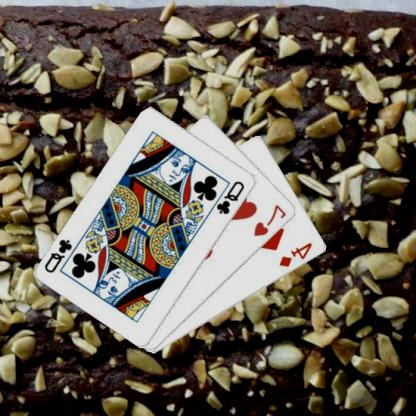4D: (278, 240, 316, 269)
7H: (252, 201, 290, 238)
QC: (43, 236, 76, 274), (216, 178, 248, 216)
